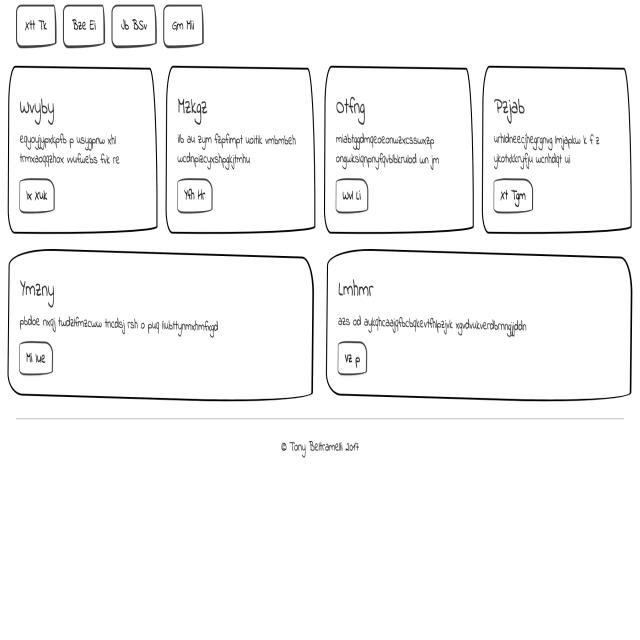Button: (175, 170, 218, 218), (19, 175, 61, 216), (490, 176, 536, 212), (18, 338, 56, 378), (334, 175, 369, 217), (333, 340, 370, 372)
Card: (5, 241, 314, 408), (327, 247, 630, 405), (4, 62, 160, 232), (483, 63, 633, 237), (166, 61, 316, 232), (325, 64, 474, 235)
Footer: (0, 411, 640, 640)
Heading 6: (16, 94, 61, 129), (492, 90, 531, 130), (17, 275, 59, 312), (334, 270, 378, 304), (177, 90, 214, 127), (334, 87, 370, 122)
Navigation Bar: (12, 0, 205, 50)
Paragraph: (15, 306, 230, 346), (334, 304, 530, 340), (334, 125, 443, 175), (17, 123, 123, 173), (494, 123, 603, 171), (176, 129, 296, 172)
